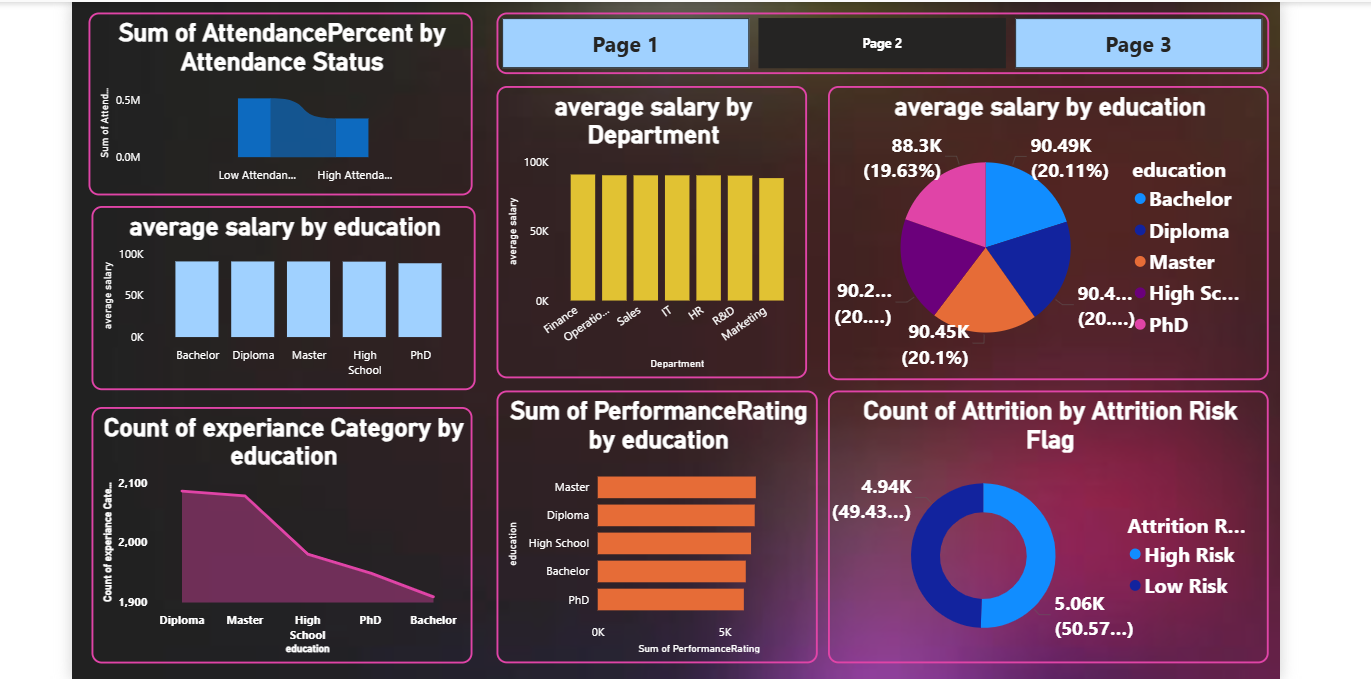

This screenshot's page, from the dashboard's own definition file:
{"tool":"powerbi","page":{"name":"Page 2","canvas":[1280,720],"ordinal":1},"visuals":[{"type":"clusteredColumnChart","fields":{"Y":["Employee_Data.AVERAGE SALARY"],"Category":["Employee_Data.Education"]},"box":[20.7,216.3,407.2,195.6],"z":0},{"type":"clusteredBarChart","fields":{"Y":["Sum(Employee_Data.PerformanceRating)"],"Category":["Employee_Data.Education"]},"box":[450.1,412,340.4,289.5],"z":1000},{"type":"donutChart","fields":{"Category":["Employee_Data.Attrition Risk Flag"],"Y":["CountNonNull(Employee_Data.Attrition)"]},"box":[801.7,412,467.6,289.5],"z":2000},{"type":"ribbonChart","fields":{"Category":["Employee_Data.Attendance Status"],"Y":["Sum(Employee_Data.AttendancePercent)"]},"box":[17.5,11.1,407.2,194.1],"z":3000},{"type":"pageNavigator","box":[450.1,11.1,819.2,65.2],"z":4000},{"type":"clusteredColumnChart","fields":{"Category":["Employee_Data.Department"],"Y":["Employee_Data.AVERAGE SALARY"]},"box":[450.1,89.1,329.3,310.2],"z":5000},{"type":"pieChart","fields":{"Category":["Employee_Data.Education"],"Y":["Employee_Data.AVERAGE SALARY"]},"box":[801.7,89.1,467.6,311.8],"z":6000},{"type":"stackedAreaChart","fields":{"Category":["Employee_Data.education"],"Y":["CountNonNull(Employee_Data.experiance Category)"]},"box":[20.7,429.5,404,272],"z":7000}]}

Visuals, with their boxes on the page's 1280x720 design canvas (x1, y1, x2, y2). These are canvas units, not pixel positions in the 1371x679 screenshot, which may show the page scaled, cropped or inside an application window:
clusteredColumnChart - Employee_Data.AVERAGE SALARY x Employee_Data.Education: x1=21, y1=216, x2=428, y2=412
clusteredBarChart - Sum(Employee_Data.PerformanceRating) x Employee_Data.Education: x1=450, y1=412, x2=790, y2=702
donutChart - Employee_Data.Attrition Risk Flag x CountNonNull(Employee_Data.Attrition): x1=802, y1=412, x2=1269, y2=702
ribbonChart - Employee_Data.Attendance Status x Sum(Employee_Data.AttendancePercent): x1=18, y1=11, x2=425, y2=205
pageNavigator: x1=450, y1=11, x2=1269, y2=76
clusteredColumnChart - Employee_Data.Department x Employee_Data.AVERAGE SALARY: x1=450, y1=89, x2=779, y2=399
pieChart - Employee_Data.Education x Employee_Data.AVERAGE SALARY: x1=802, y1=89, x2=1269, y2=401
stackedAreaChart - Employee_Data.education x CountNonNull(Employee_Data.experiance Category): x1=21, y1=430, x2=425, y2=702
